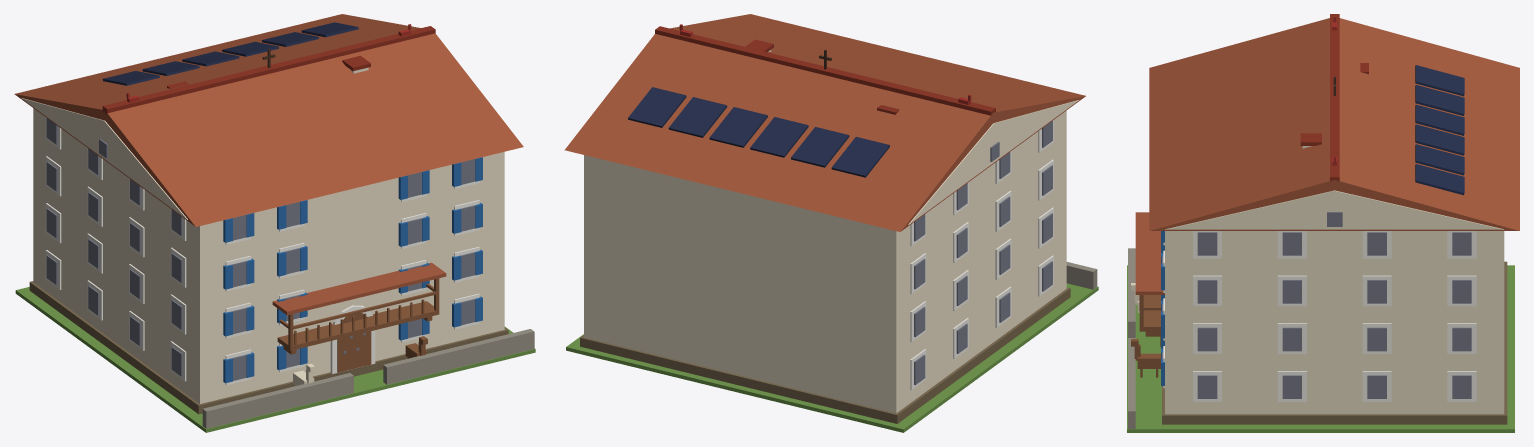
File: house-2x2-4f-andean-a-solar.glb
3 renders of one model, left to right at view 1: azimuth 30°, elevation 25°; view 2: azimuth 150°, elevation 25°; view 3: azimuth 270°, elevation 25°, orthographic. The views are drawn at different scales.
Parts seen in each view (by area): view 1: house-2x2-4f-andean-a-solar; view 2: house-2x2-4f-andean-a-solar; view 3: house-2x2-4f-andean-a-solar.
Boxes of the visible parts, box(x1,y1,x2,y2) form: house-2x2-4f-andean-a-solar: box(14, 14, 535, 432); house-2x2-4f-andean-a-solar: box(564, 14, 1098, 432); house-2x2-4f-andean-a-solar: box(1127, 14, 1519, 432).
Size of the model in its own units: 2.01 by 1.55 by 2.01.
1 material, 1 textured.
